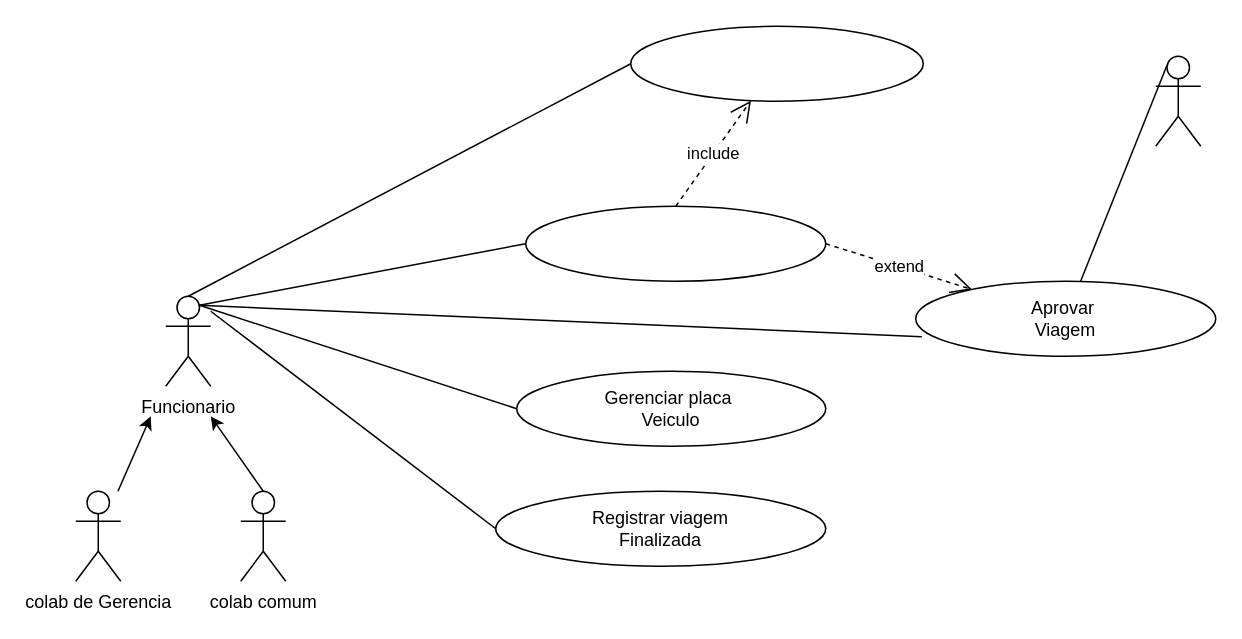
Image size: 1242x639. Some labels were removed from this diagram. The shapes that lost their labels are listed below. From the top down, each one's box as (x1, y1, x2, y2) in pixels, then its label:
(629, 25, 923, 101): Solicitar Viagem
(1154, 55, 1201, 146): Gestor
(524, 205, 826, 281): Solicitar diarias e/ou transporte
